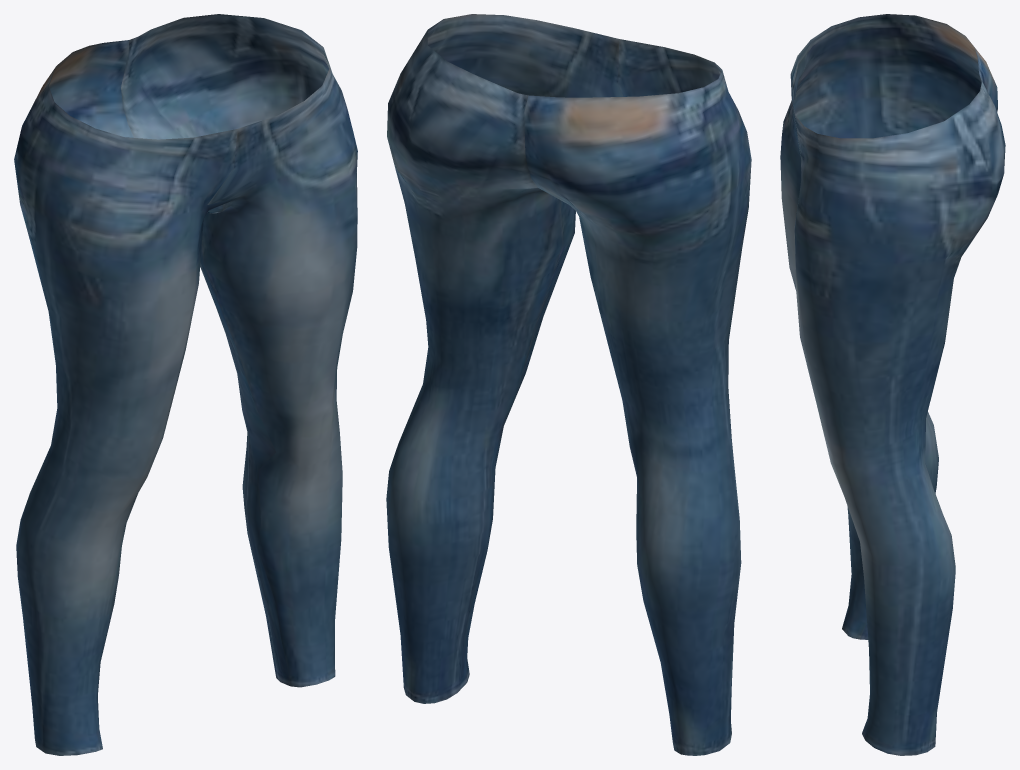
The model's file is jeans_seller.glb.
3 views of the same model, side by side, from view 1: azimuth 30°, elevation 25°; view 2: azimuth 150°, elevation 25°; view 3: azimuth 270°, elevation 25° (orthographic). The views are drawn at different scales.
Visible parts, largest first — view 1: jeans_seller_out; view 2: jeans_seller_out; view 3: jeans_seller_out.
Part boxes in pixels (box(x1,y1,x2,y2)): jeans_seller_out: box(14, 14, 357, 755); jeans_seller_out: box(386, 14, 751, 755); jeans_seller_out: box(780, 14, 1005, 755).
Size of the model in its own units: 453 by 876 by 288.
1 material, 1 textured.
